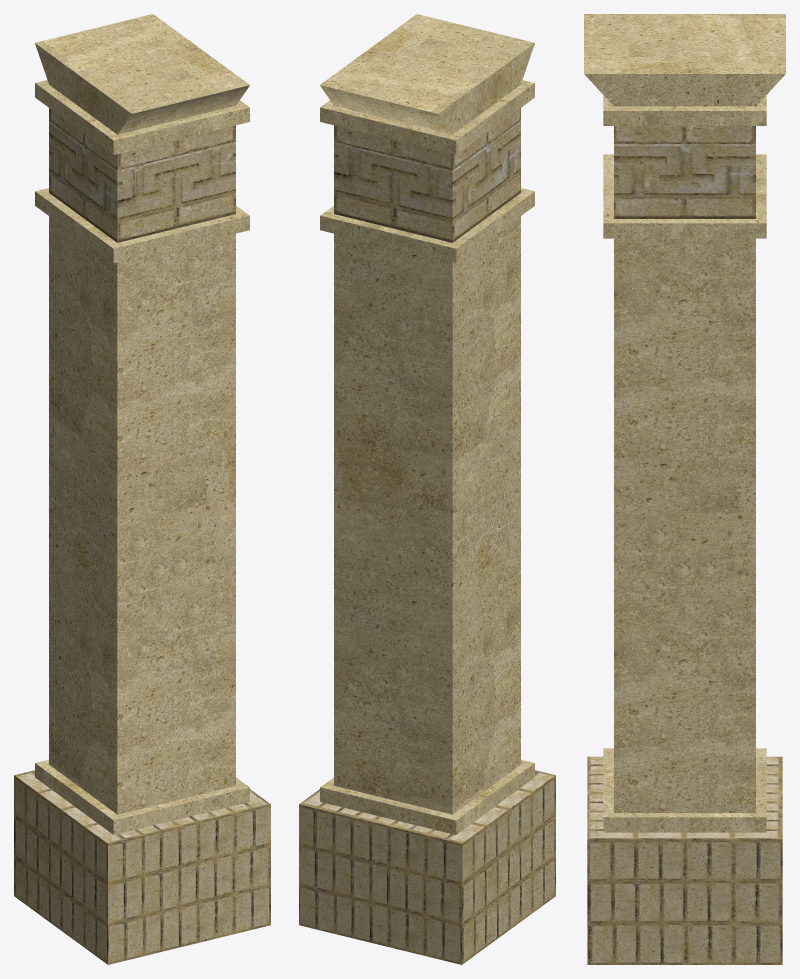
The model's file is tutorial_structure_support_pillar_sml.dae.
3 renders of one model, left to right at view 1: azimuth 30°, elevation 25°; view 2: azimuth 150°, elevation 25°; view 3: azimuth 270°, elevation 25°, orthographic. The views are drawn at different scales.
Visible parts, largest first — view 1: tutorial_structure_support_pillar_sml; view 2: tutorial_structure_support_pillar_sml; view 3: tutorial_structure_support_pillar_sml.
Boxes of the visible parts, box(x1,y1,x2,y2) form: tutorial_structure_support_pillar_sml: box(14, 14, 270, 964); tutorial_structure_support_pillar_sml: box(299, 14, 555, 964); tutorial_structure_support_pillar_sml: box(584, 14, 785, 964).
Bounding box in the file's own units: 2.41 × 2.49 × 11.96.
4 materials, 4 textured.
